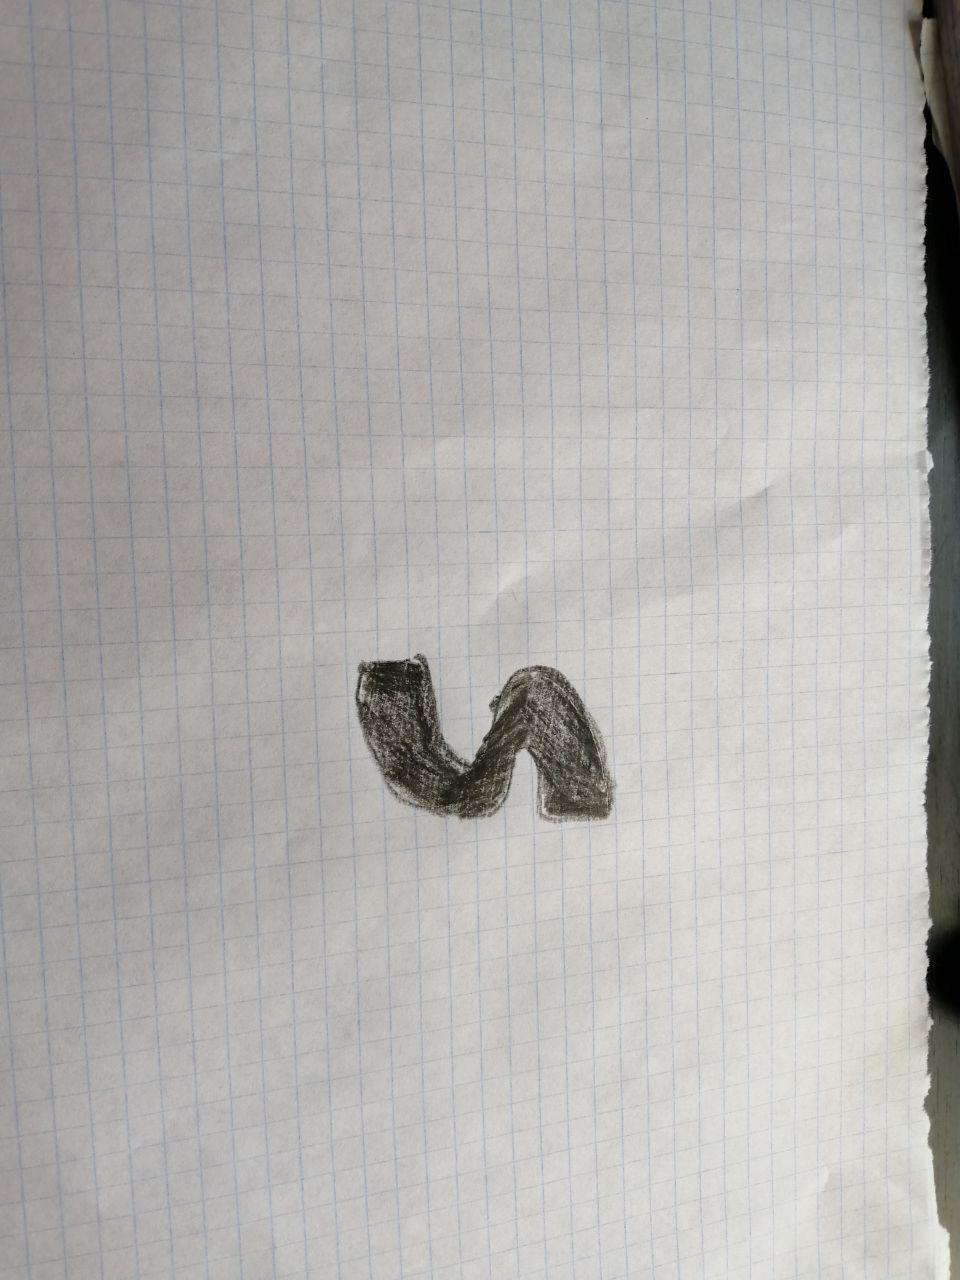s: (343, 649, 625, 833)
